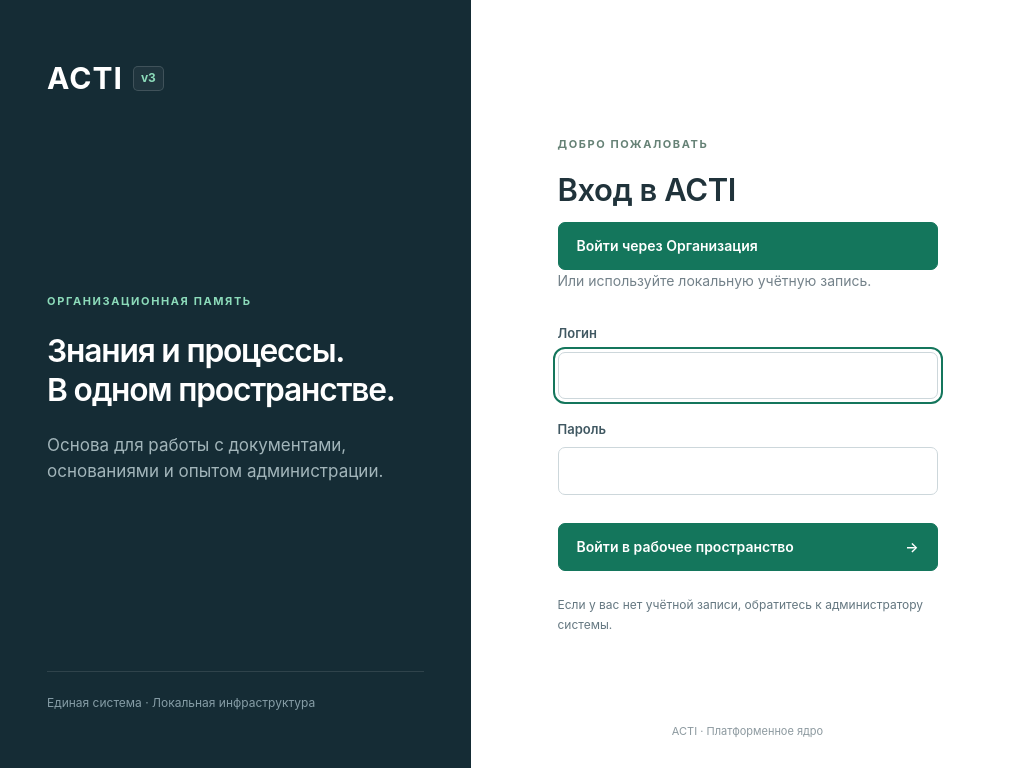
Test case: restores local login after a failed OIDC start without exposing provider details
Click the button "Войти через Организация" at coordinates (748, 246), box [558,222,938,270]
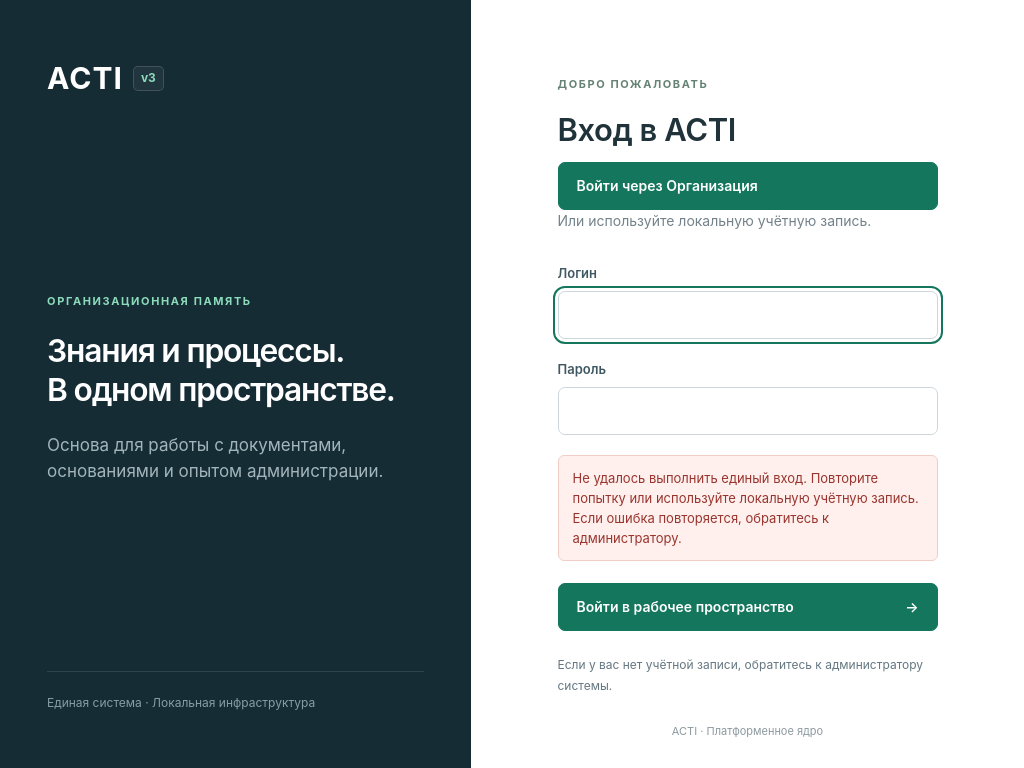
Expected: the button "Войти в рабочее пространство →" is enabled, [558,583,938,631]
Result: the message shows "Не удалось выполнить единый вход" at [572,470,919,546]
